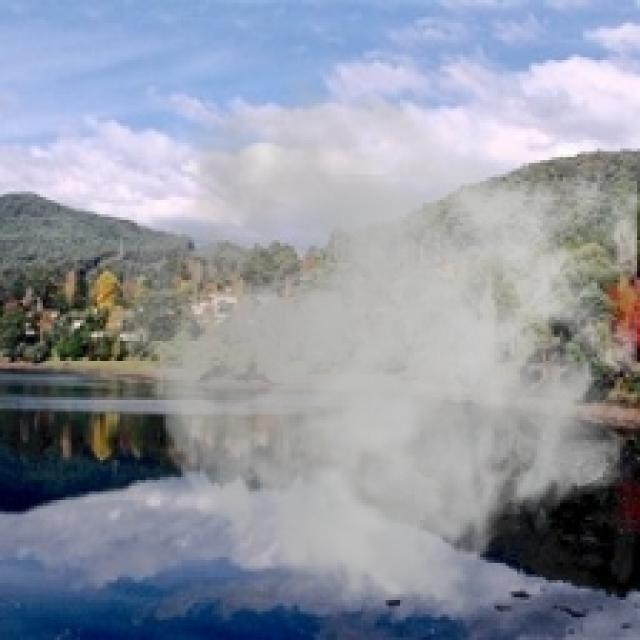Smoke: (105, 71, 638, 623)
